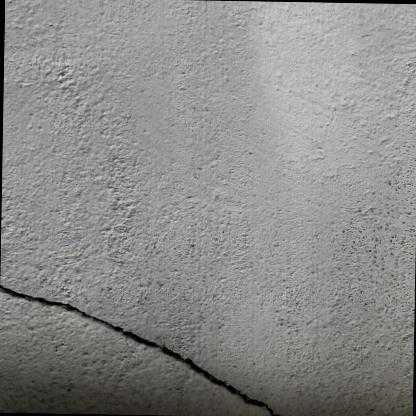crack: (0, 284, 281, 416)
